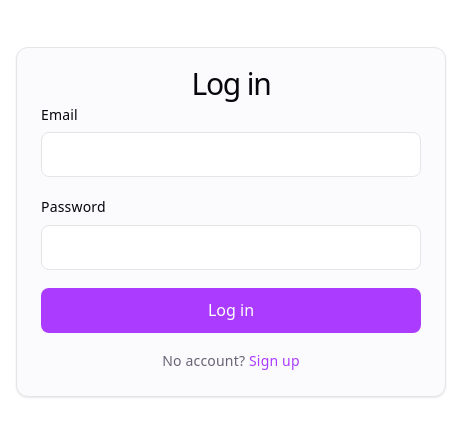
Test: Login › shows an error message on invalid credentials
The width and height of the screenshot is (463, 446).
In the field labelled "Email": (231, 155) [41, 132, 421, 177], type "jane@example.com"
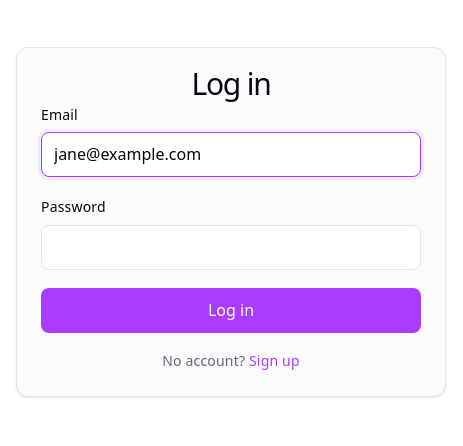
In the password field labelled "Password": (231, 247) [41, 225, 421, 270], type "wrong"
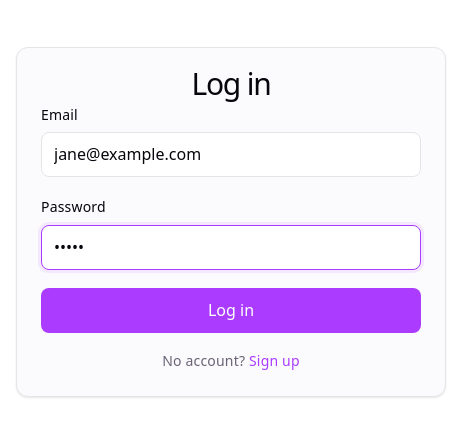
Click the button "Log in": (231, 310) [41, 288, 421, 333]
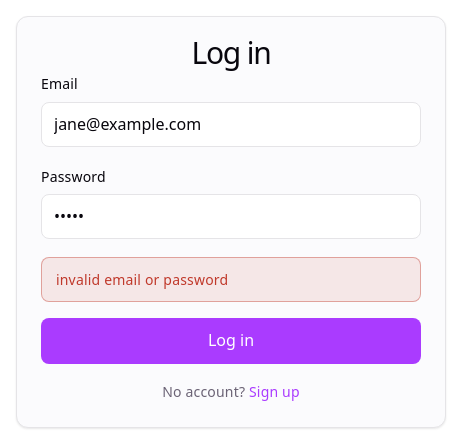
expect the text "invalid email or password" is shown: met, box [41, 257, 421, 302]
